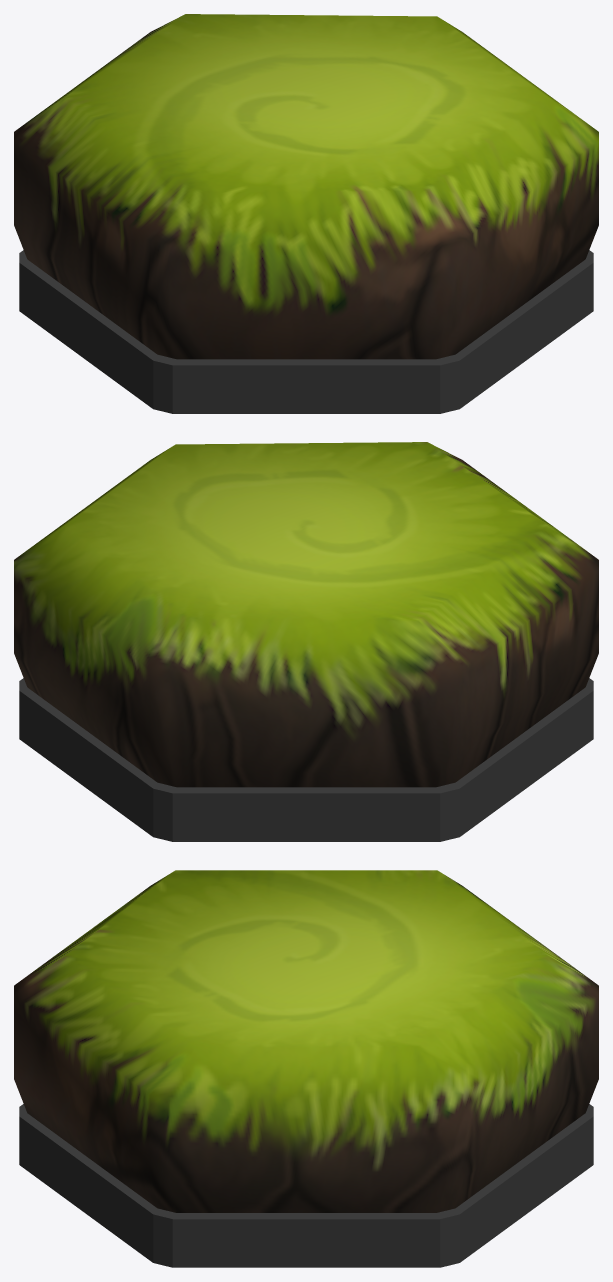
The model's file is tile_art.FBX.
3 views of the same model, one above another, from view 1: azimuth 30°, elevation 25°; view 2: azimuth 150°, elevation 25°; view 3: azimuth 270°, elevation 25° (orthographic).
Parts seen in each view (by area): view 1: 04, base; view 2: 04, base; view 3: 04, base.
Boxes of the visible parts, <box> form: 04: <box>14,14,598,359</box>; base: <box>19,250,593,413</box>; 04: <box>14,442,598,787</box>; base: <box>19,678,593,841</box>; 04: <box>14,870,598,1212</box>; base: <box>19,1104,593,1267</box>.
Bounding box in the file's own units: 86.9 × 37.75 × 98.11.
1 material, 1 textured.
